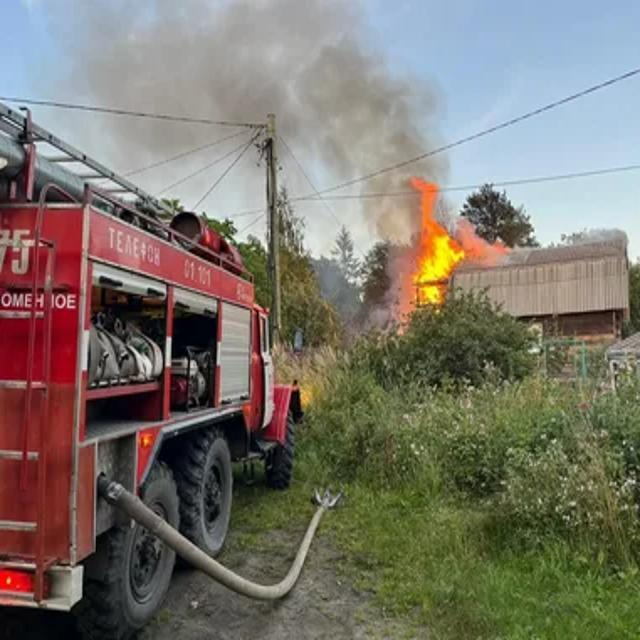Smoke: (304, 0, 452, 262)
